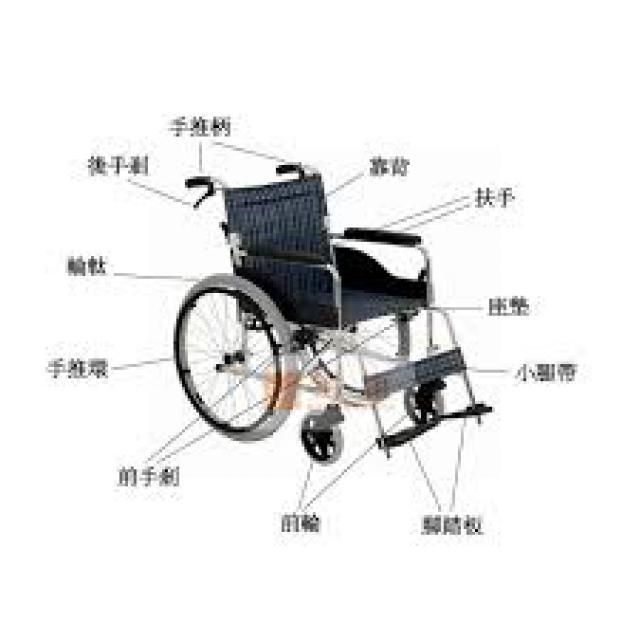wheelchair: (168, 151, 507, 478)
